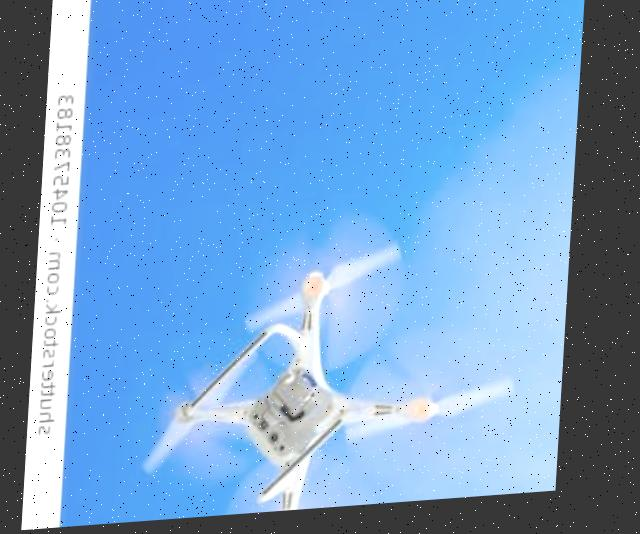drone: (112, 223, 575, 526)
